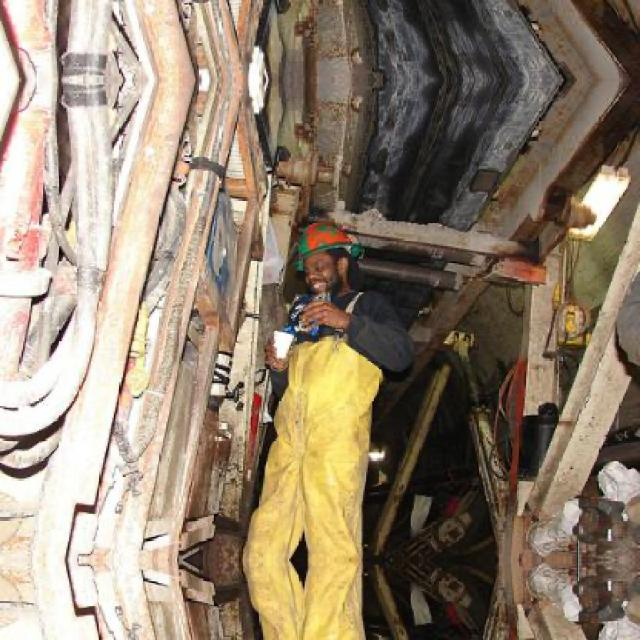2: (251, 222, 417, 558), (249, 562, 417, 638)
helmet: (286, 216, 363, 296)
